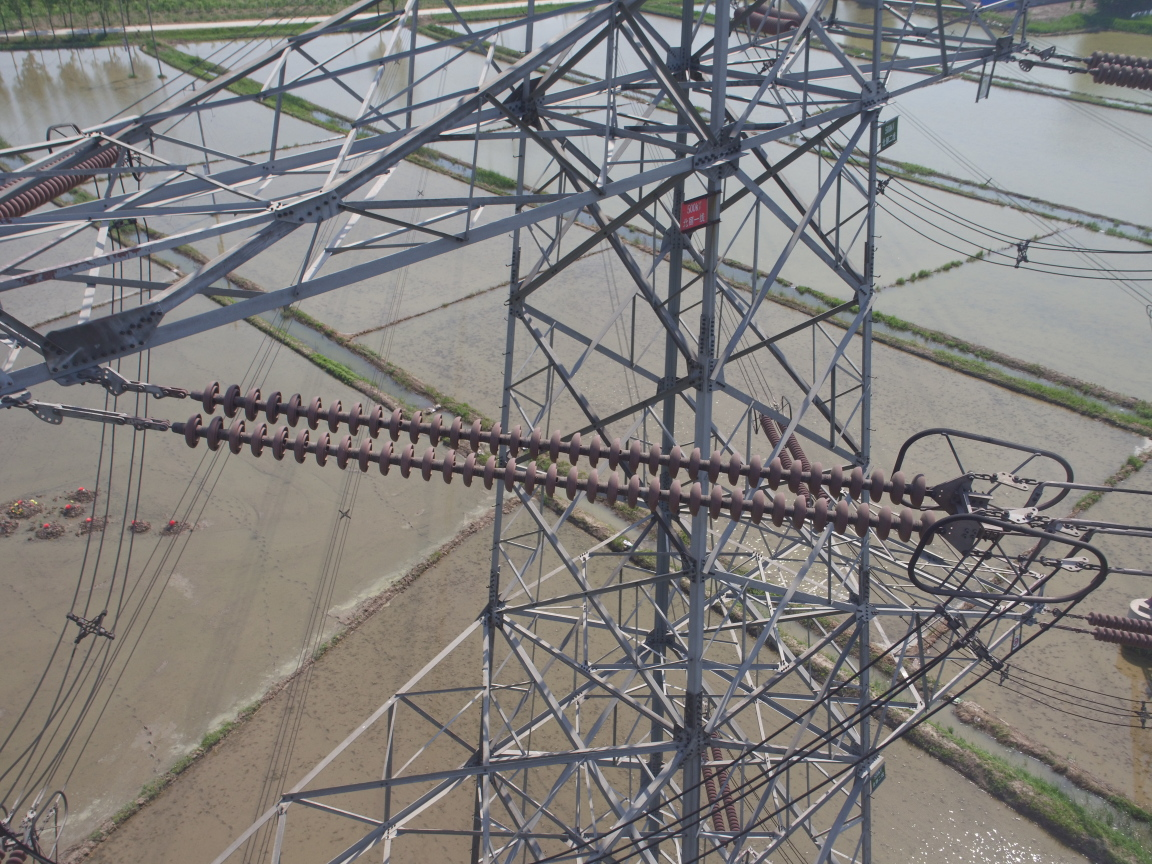insulator: (146, 376, 957, 546)
